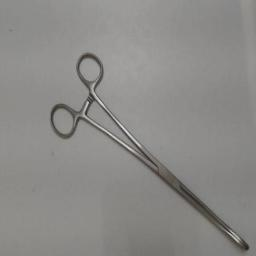Sponge Forceps: (44, 43, 254, 255)
